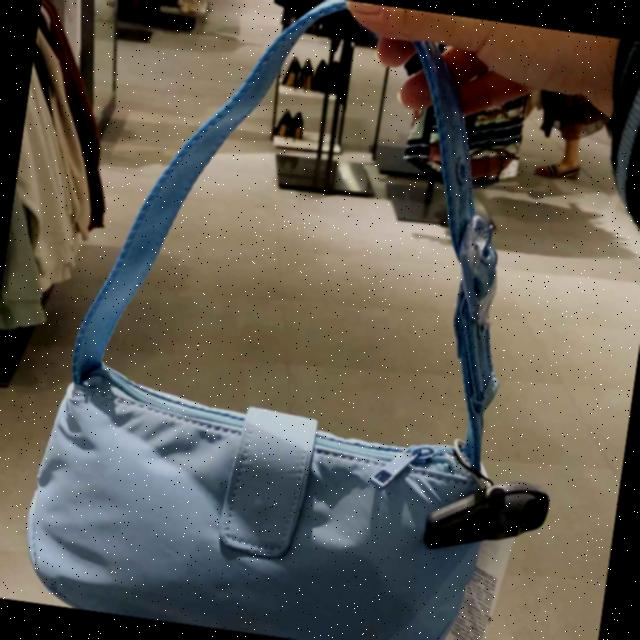Handbag: (0, 350, 542, 640)
